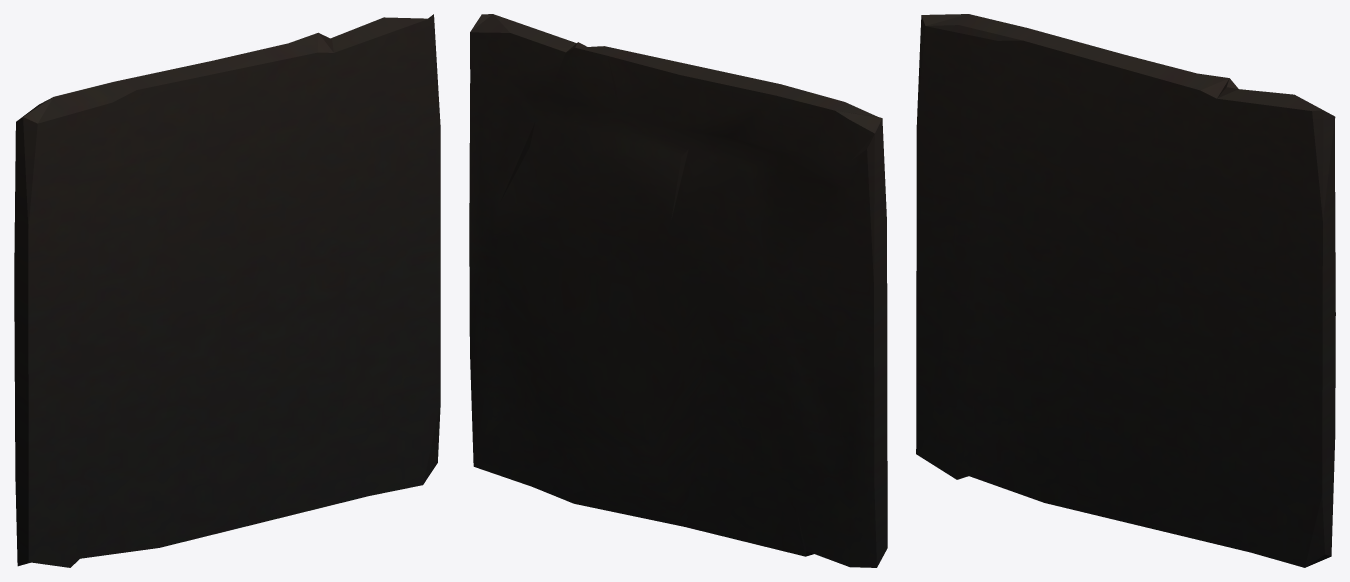
File: wall.FBX
3 views of the same model, side by side, from view 1: azimuth 30°, elevation 25°; view 2: azimuth 150°, elevation 25°; view 3: azimuth 330°, elevation 25° (orthographic).
Visible parts, largest first — view 1: wall01; view 2: wall01; view 3: wall01.
Boxes of the visible parts, left/top/right/bottom form: wall01: left=14, top=14, right=440, bottom=567; wall01: left=469, top=14, right=887, bottom=567; wall01: left=916, top=14, right=1335, bottom=567.
Bounding box in the file's own units: 393 × 424 × 25.63.
